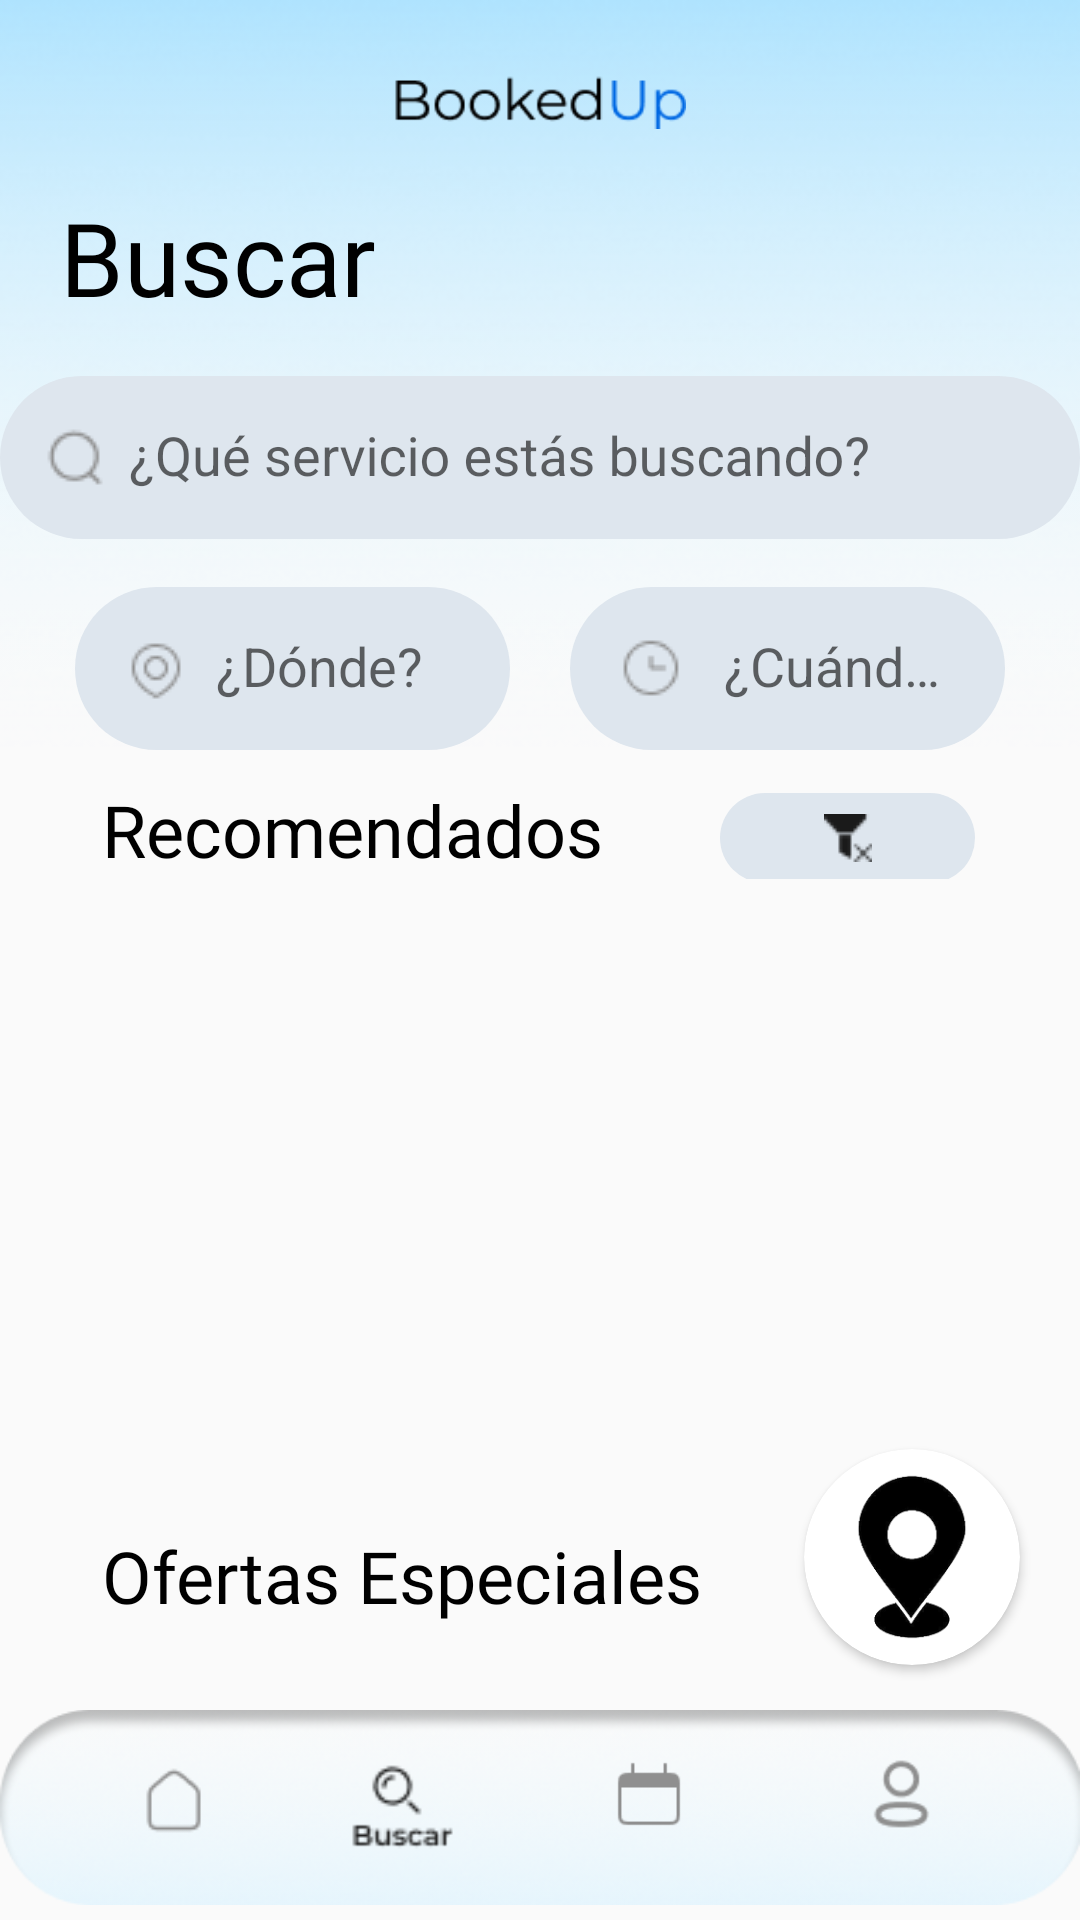

Where icons sit on this 1080w x 1920h app screen, as [left=x1, top=y1, right=x2, bottom=y2]:
ubication: [left=815, top=1476, right=1020, bottom=1665]
